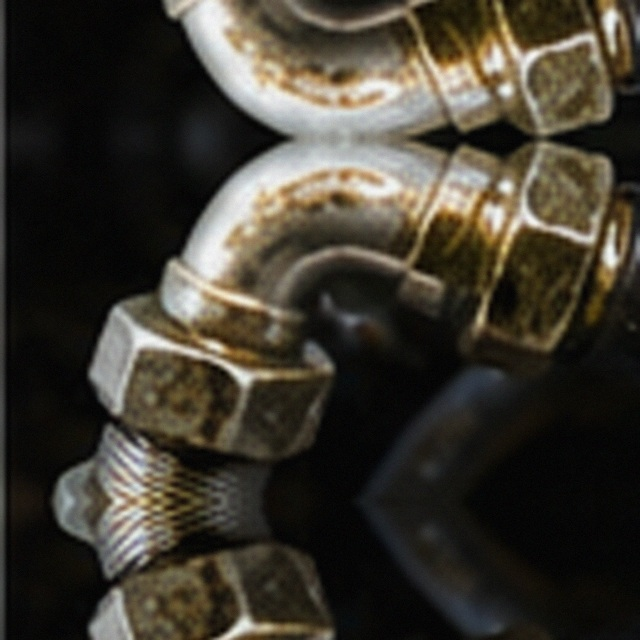hydraulic_oil_leak: (176, 220, 420, 427)
